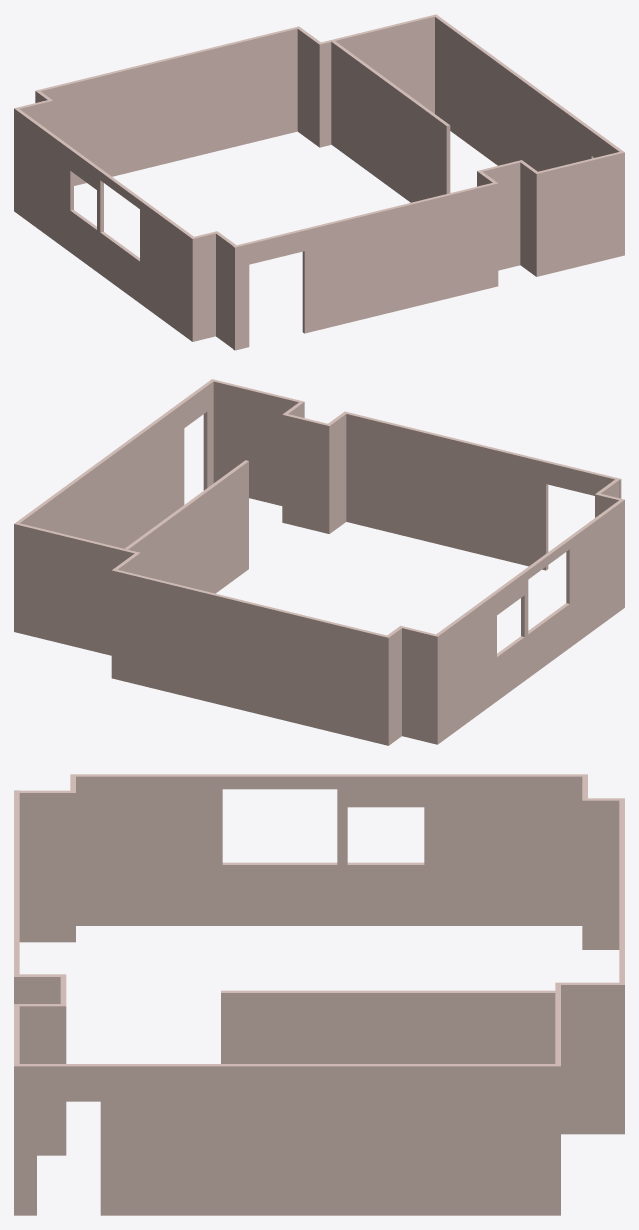
The model's file is 学生ホール 1.fbx.
3 renders of one model, top to bottom at view 1: azimuth 30°, elevation 25°; view 2: azimuth 150°, elevation 25°; view 3: azimuth 270°, elevation 25°, orthographic. The views are drawn at different scales.
Parts seen in each view (by area): view 1: Room.001, Room; view 2: Room.001, Room; view 3: Room.001, Room.
Part boxes in pixels (x1,y1,x2,y2): Room.001: (14, 14, 624, 350); Room: (331, 41, 450, 202); Room.001: (14, 379, 624, 745); Room: (124, 460, 248, 593); Room.001: (14, 774, 624, 1215); Room: (221, 990, 555, 1063).
Bounding box in the file's own units: 1083 × 258 × 957.
